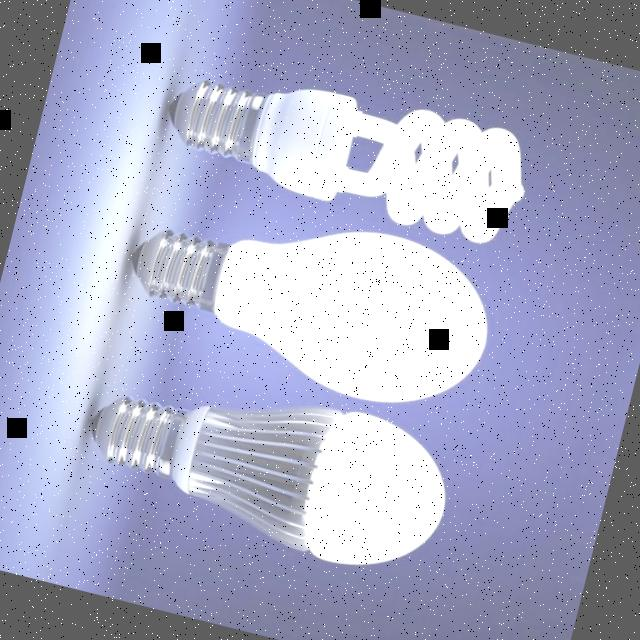light_bulb: (107, 167, 535, 432), (51, 339, 492, 595), (150, 43, 564, 256)
